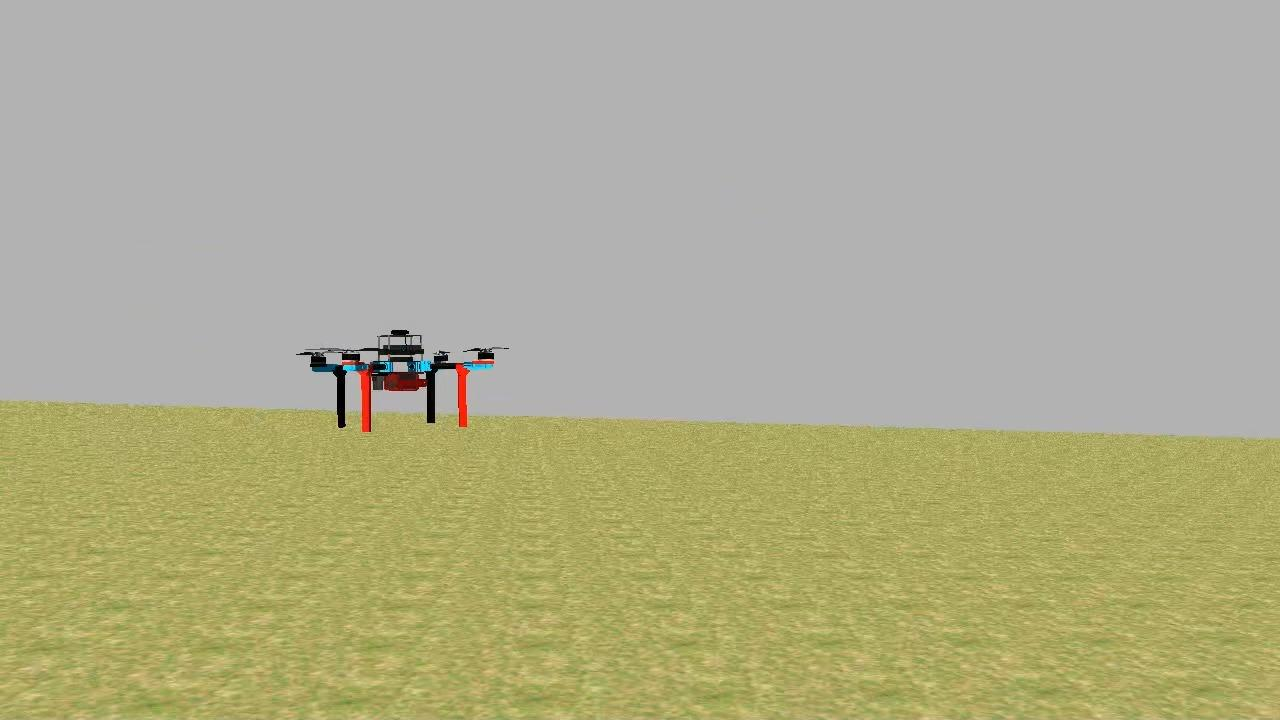UAV: (303, 323, 501, 441)
